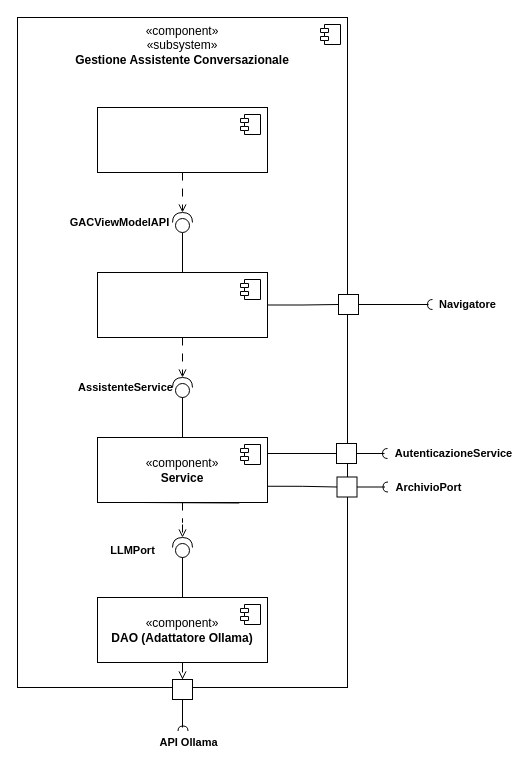
Image size: 529x773. Some labels were removed from this diagram. Each missing label, with the centre of its shape:
«component» View (GUI): point 182,139
«component» ViewModel (controller): point 182,305
